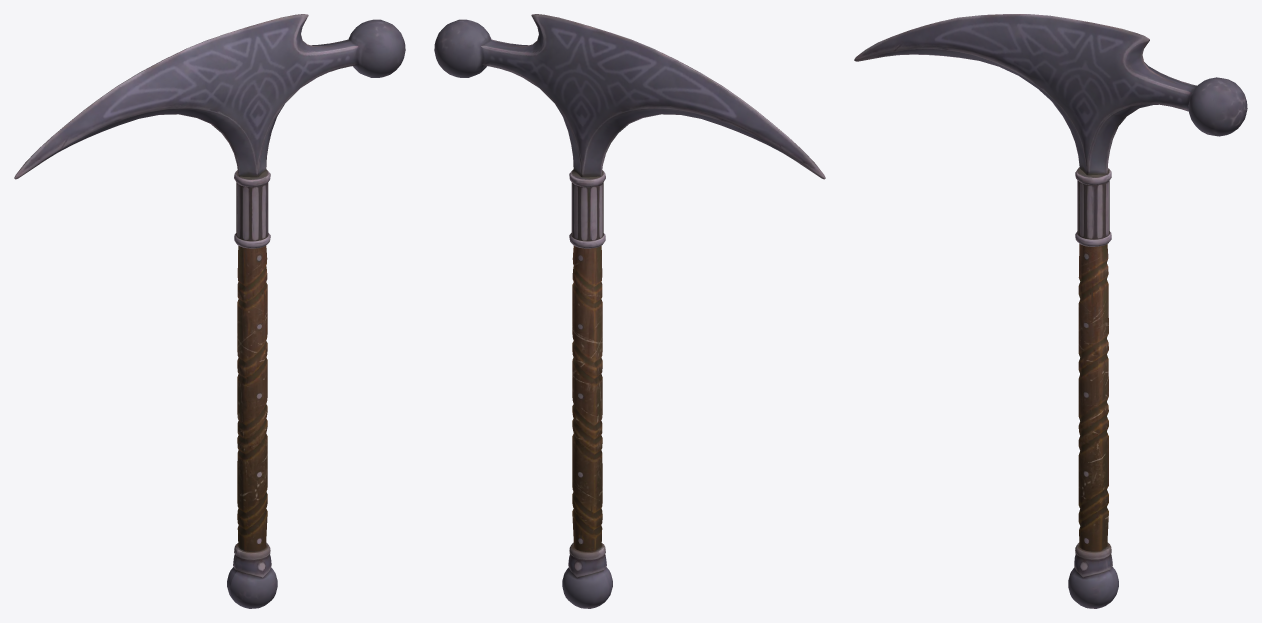
The picture shows the model from 3 angles, left to right: view 1: azimuth 30°, elevation 25°; view 2: azimuth 150°, elevation 25°; view 3: azimuth 330°, elevation 25°; orthographic projection.
Parts seen in each view (by area): view 1: SM_Pickaxe_Mithril_2H_01_LOD0; view 2: SM_Pickaxe_Mithril_2H_01_LOD0; view 3: SM_Pickaxe_Mithril_2H_01_LOD0.
Part boxes in pixels (x1,y1,x2,y2): SM_Pickaxe_Mithril_2H_01_LOD0: [14, 14, 405, 608]; SM_Pickaxe_Mithril_2H_01_LOD0: [434, 14, 825, 608]; SM_Pickaxe_Mithril_2H_01_LOD0: [854, 14, 1247, 608].
Bounding box in the file's own units: 0.9192 × 1.32 × 0.1211.
Materials: 1 (1 with a texture image).
